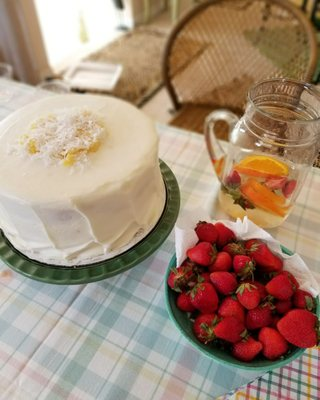pizza: (204, 78, 320, 230)
sushi: (165, 216, 319, 374)
